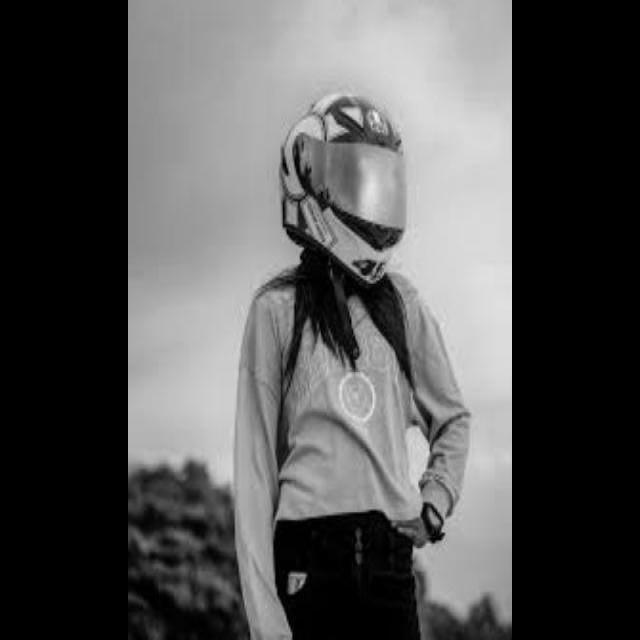5_casco: (280, 91, 408, 288)
